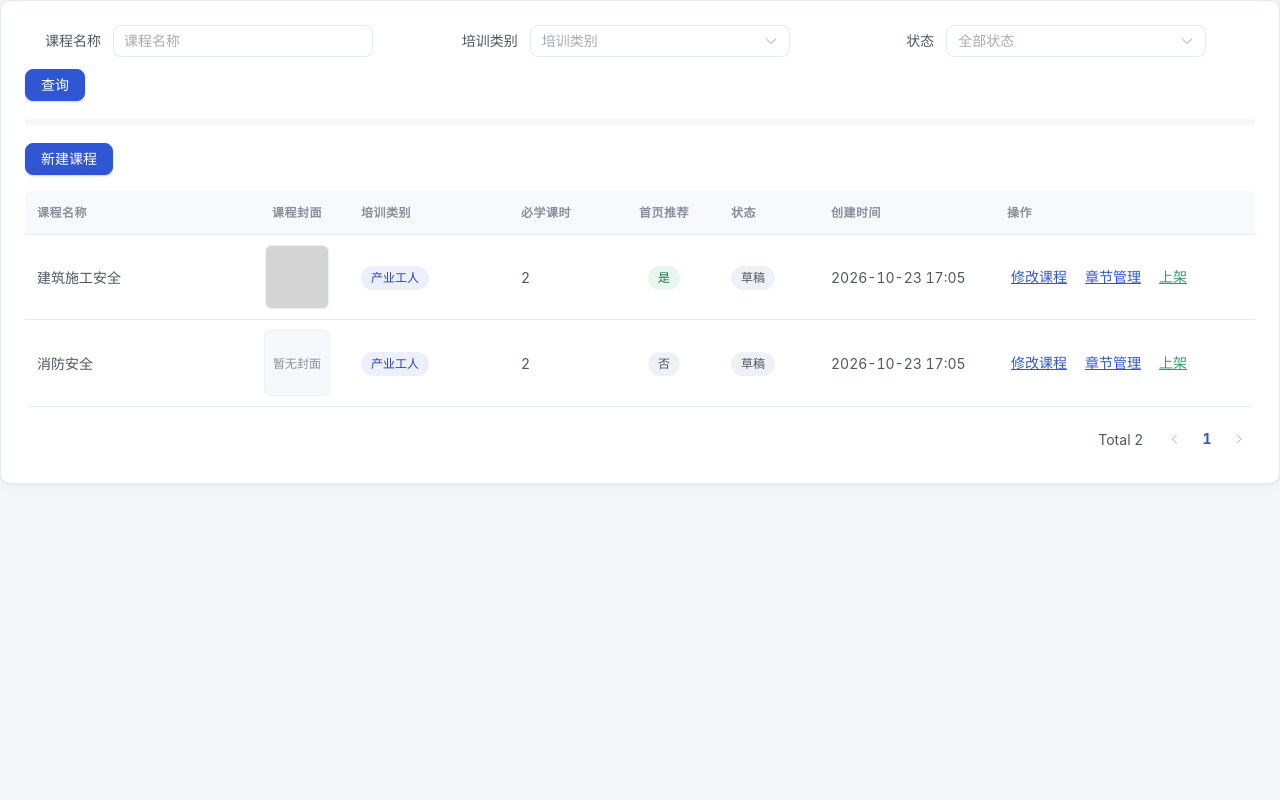
Scenario: course presentation › keeps lesson rows when deletion fails and blocks the editor after publication
Click the button "章节管理" in the row of "建筑施工安全".
click(1113, 277)  # box [1081,268,1145,286]
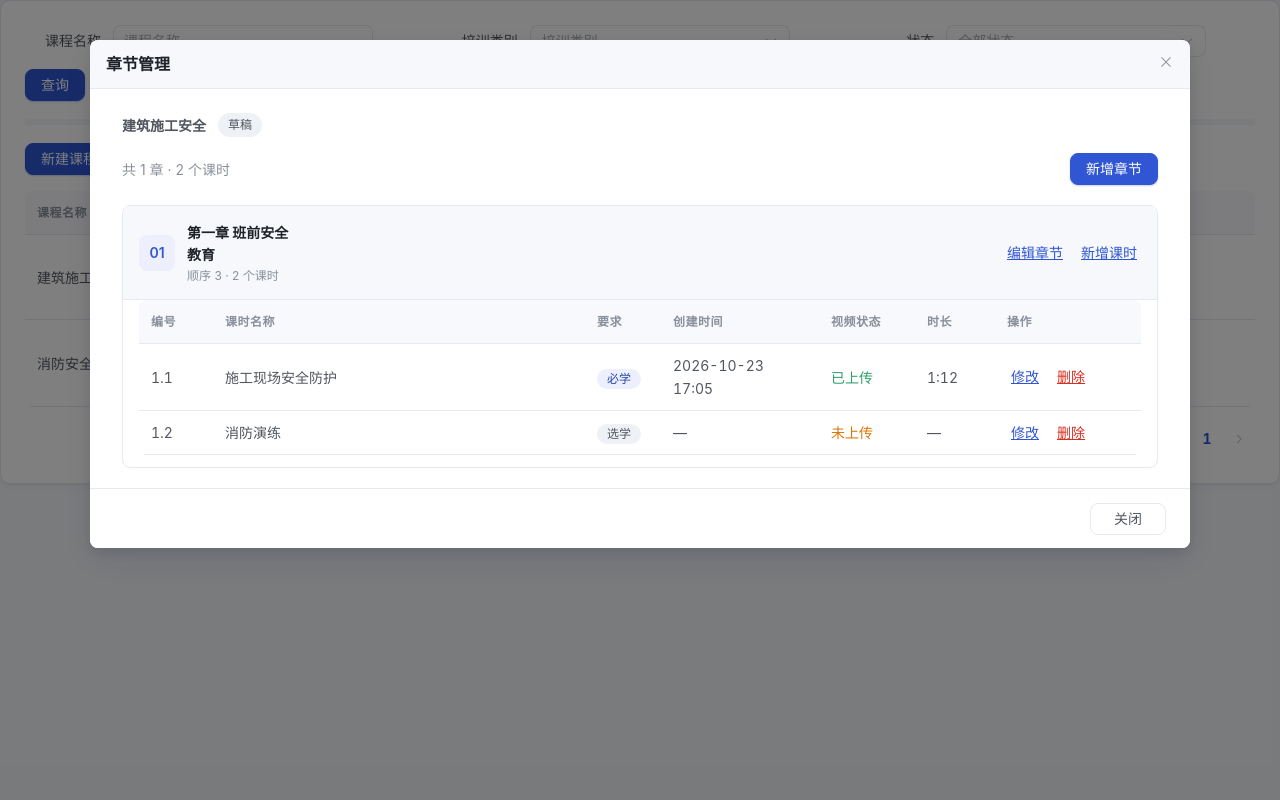
Click the button "删除" in the row of "1.1".
click(1071, 377)  # box [1053,368,1089,386]
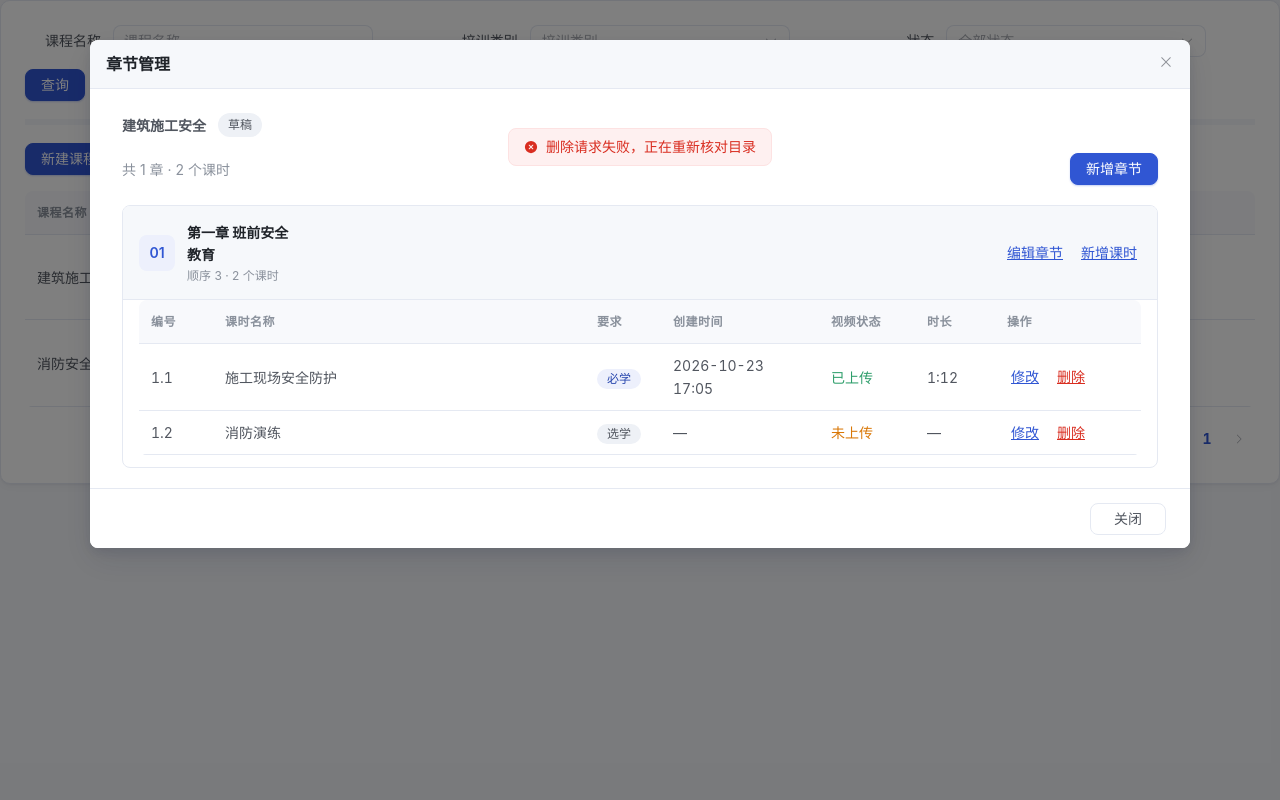
Expected: the text "重新核对目录" is shown, [546,138,756,155]
Click the button "关闭".
click(1128, 519)  # box [1090,503,1166,535]
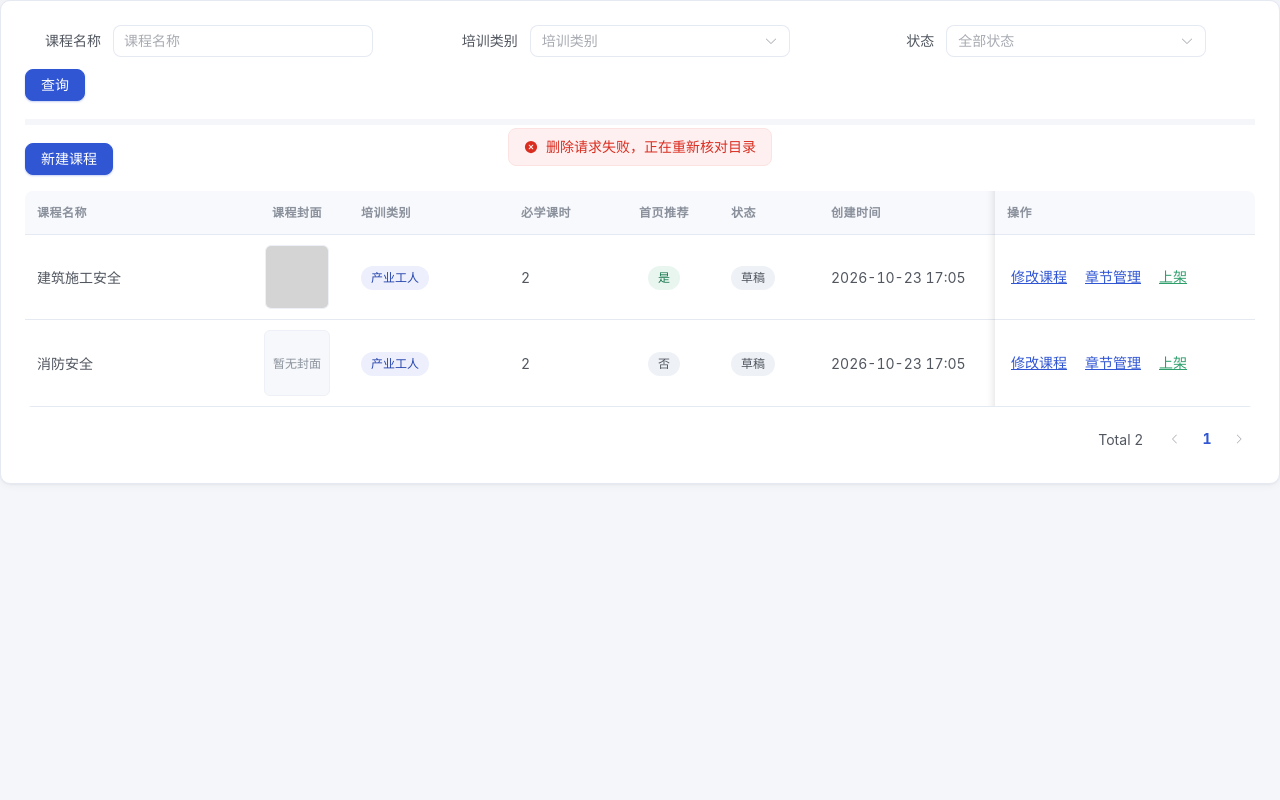
Click the button "章节管理" in the row of "建筑施工安全".
click(1113, 277)  # box [1081,268,1145,286]
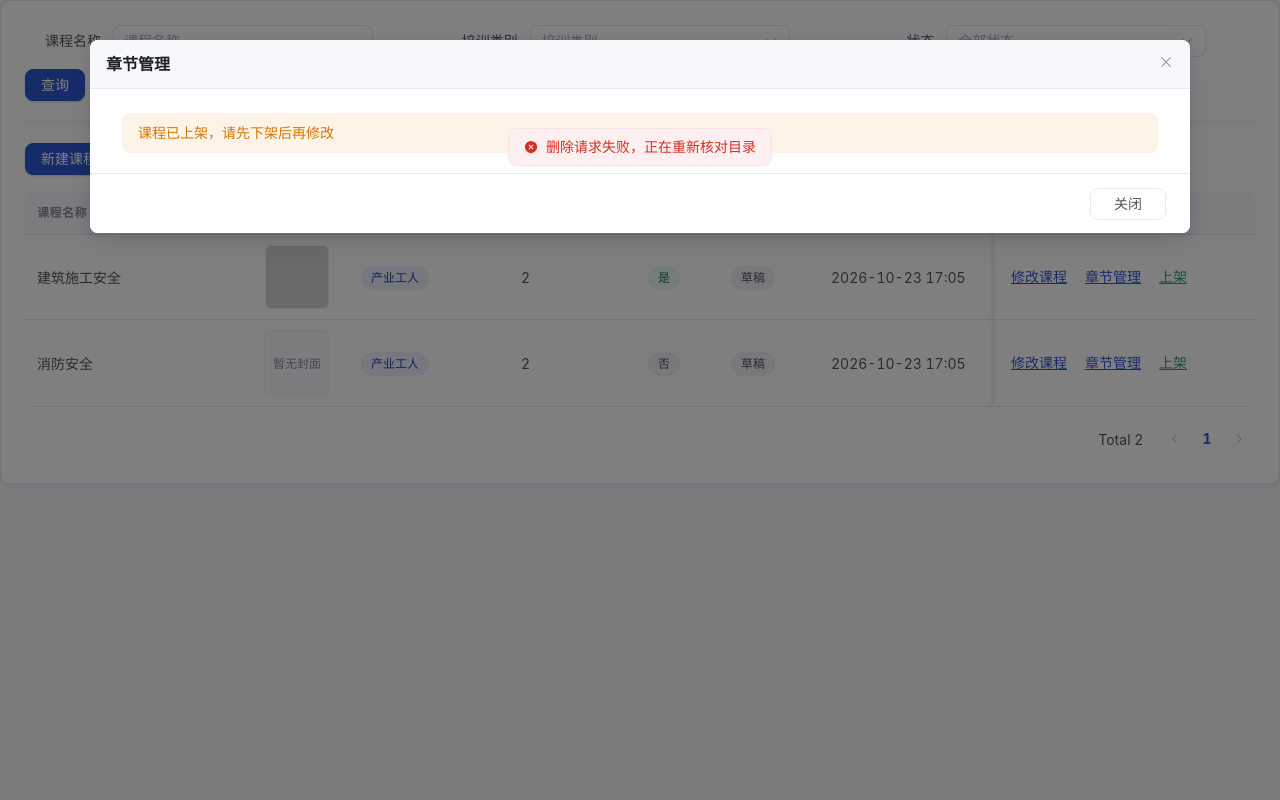
Expected: the element that starts with "课程名称" shows "请先下架后再修改", [138,124,334,141]
